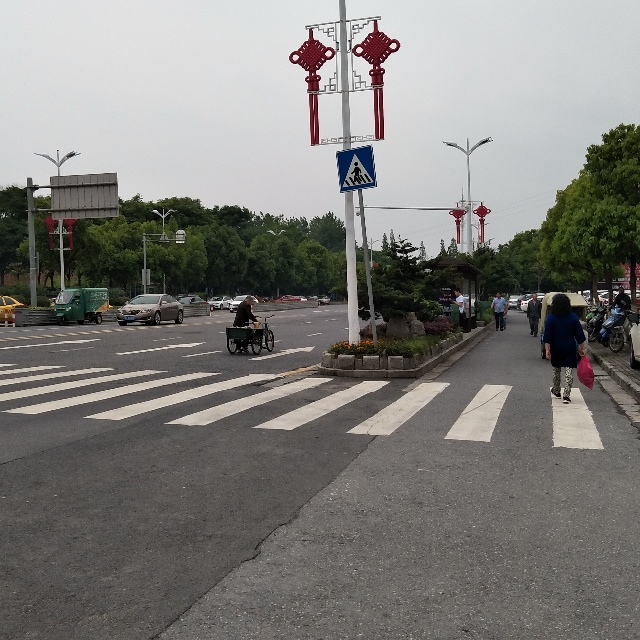crosswalk: (336, 144, 377, 193)
